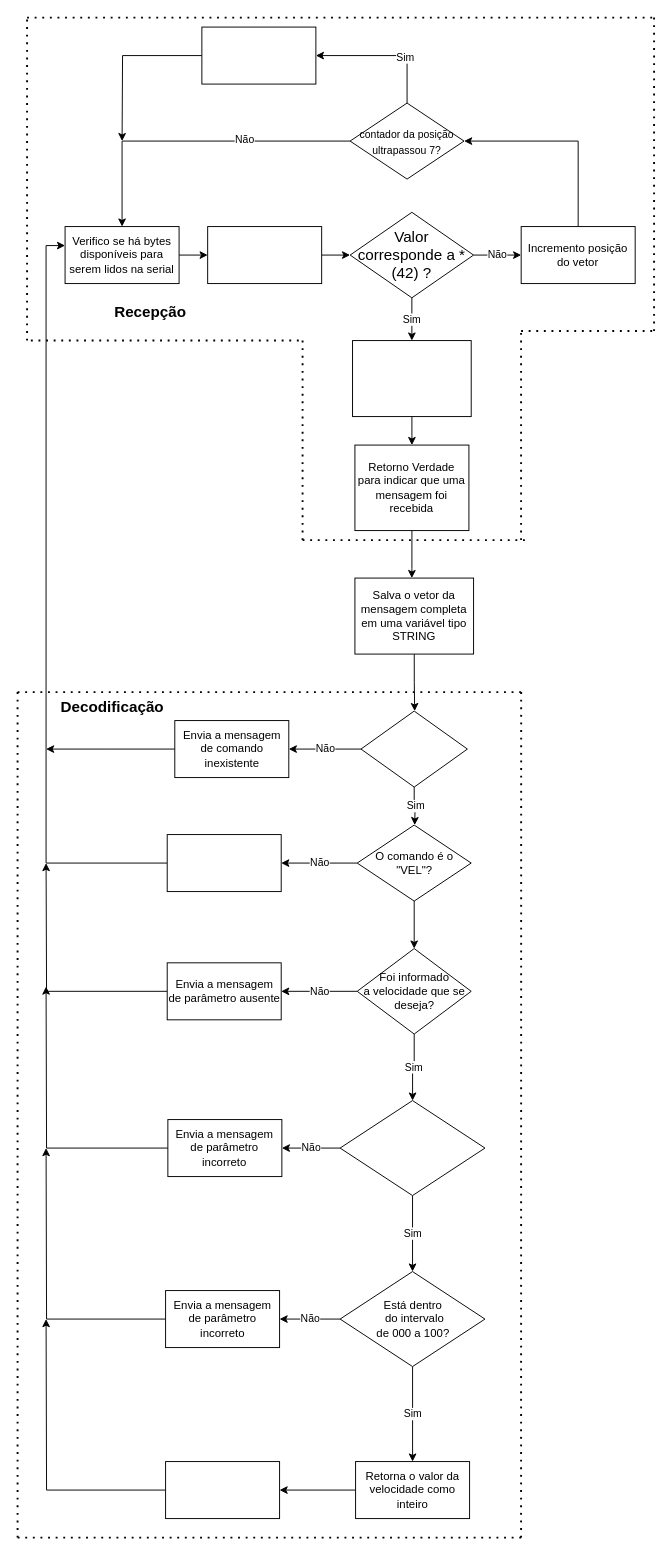
Image size: 672x1561. Some labels were removed from this diagram. Each missing label, with the centre of its shape:
Envia a mensagem correspondente à cada comando: point (223, 863)
Envia a mensagem de OK VEL xxx% (onde xxx é a velocidade enviada): point (222, 1490)
O comando enviado é valido?: point (413, 748)
O número esta no formato "xxx"?: point (412, 1148)
Salvo byte em vetor: point (264, 255)
Salvo em um novo vetor a mensagem completa e salvo o tamanho da mensagem: point (411, 378)
Zero o contador de posição: point (258, 55)
